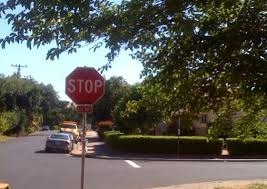stop_sign: (65, 67, 106, 106)
